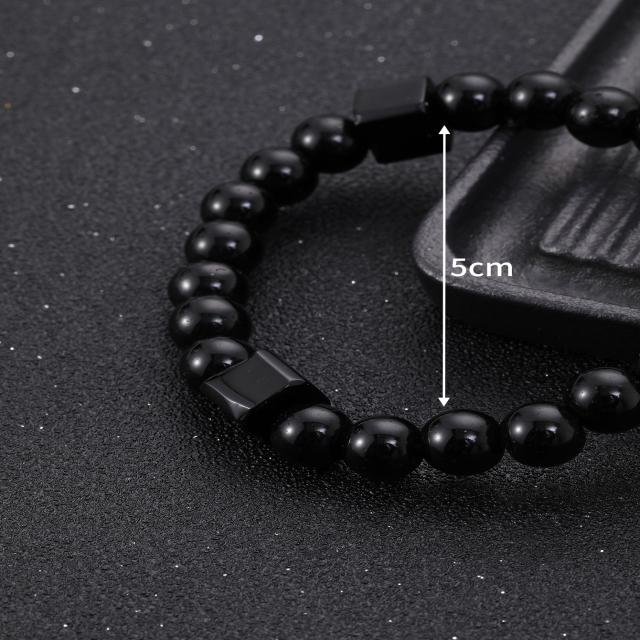bracelet: (127, 38, 640, 508)
